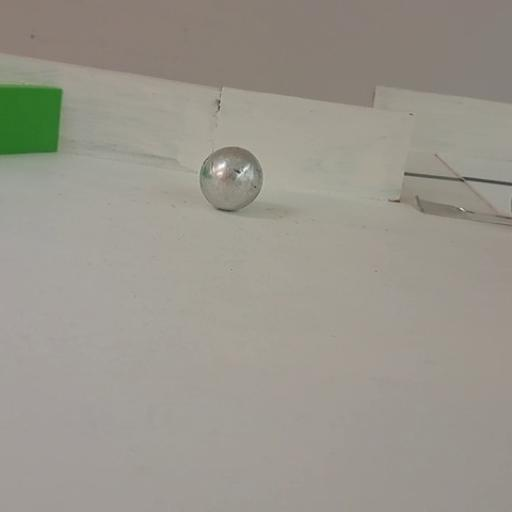alive: (196, 144, 266, 212)
